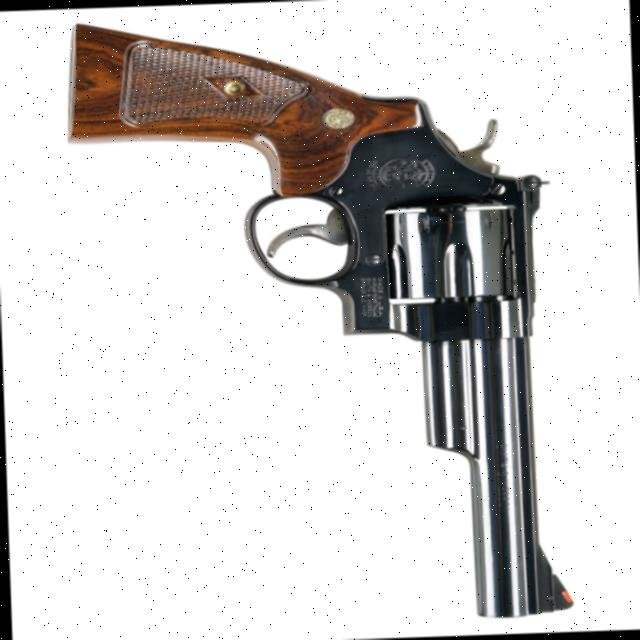Handgun: (63, 13, 571, 640)
